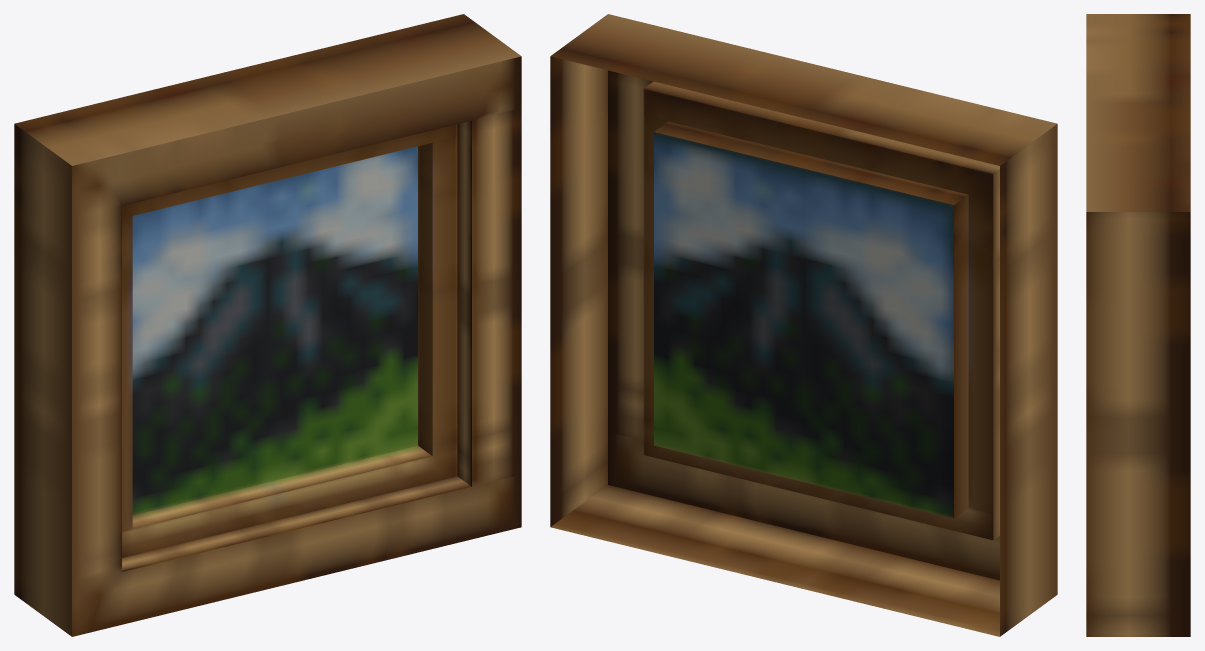
File: Inside_Poly_Wall_Deco_08.obj
3 renders of one model, left to right at view 1: azimuth 30°, elevation 25°; view 2: azimuth 150°, elevation 25°; view 3: azimuth 270°, elevation 25°, orthographic. The views are drawn at different scales.
Parts seen in each view (by area): view 1: Cube; view 2: Cube; view 3: Cube.
Part boxes in pixels (x1,y1,x2,y2): Cube: (14, 14, 521, 636); Cube: (550, 14, 1057, 636); Cube: (1086, 14, 1190, 636).
Size of the model in its own units: 0.992 by 0.993 by 0.221.
1 material, 1 textured.
